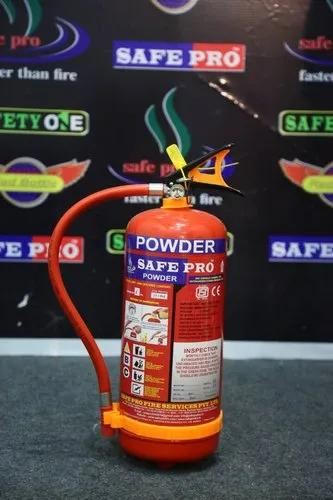floor-kept: (40, 139, 267, 490)
